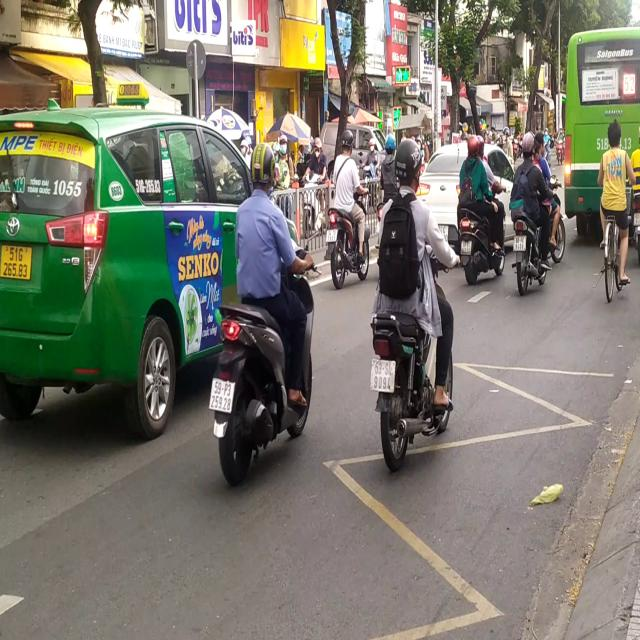bien_trang: (206, 376, 234, 416), (369, 358, 396, 393)
bien_vang: (1, 239, 32, 284)
